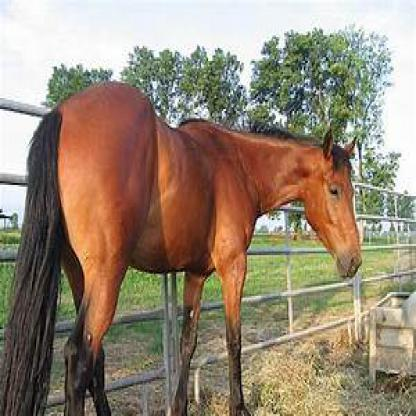horse: (0, 81, 364, 415)
